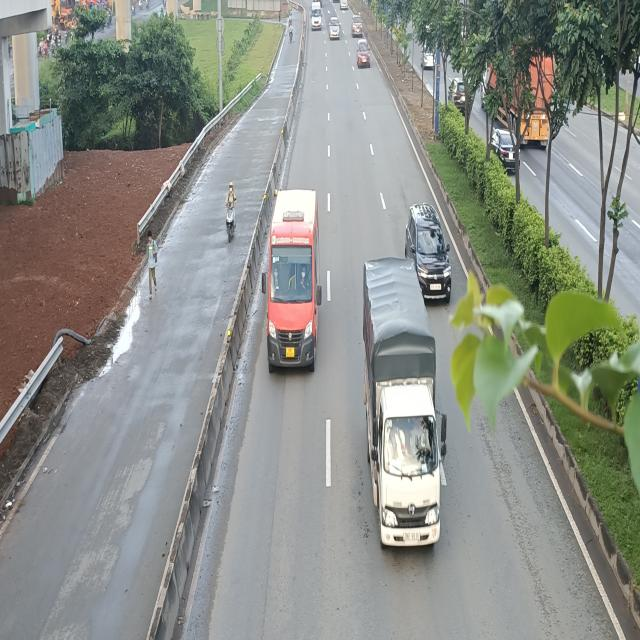car: (406, 200, 452, 304)
truck: (364, 258, 448, 552)
van: (263, 190, 323, 372)
